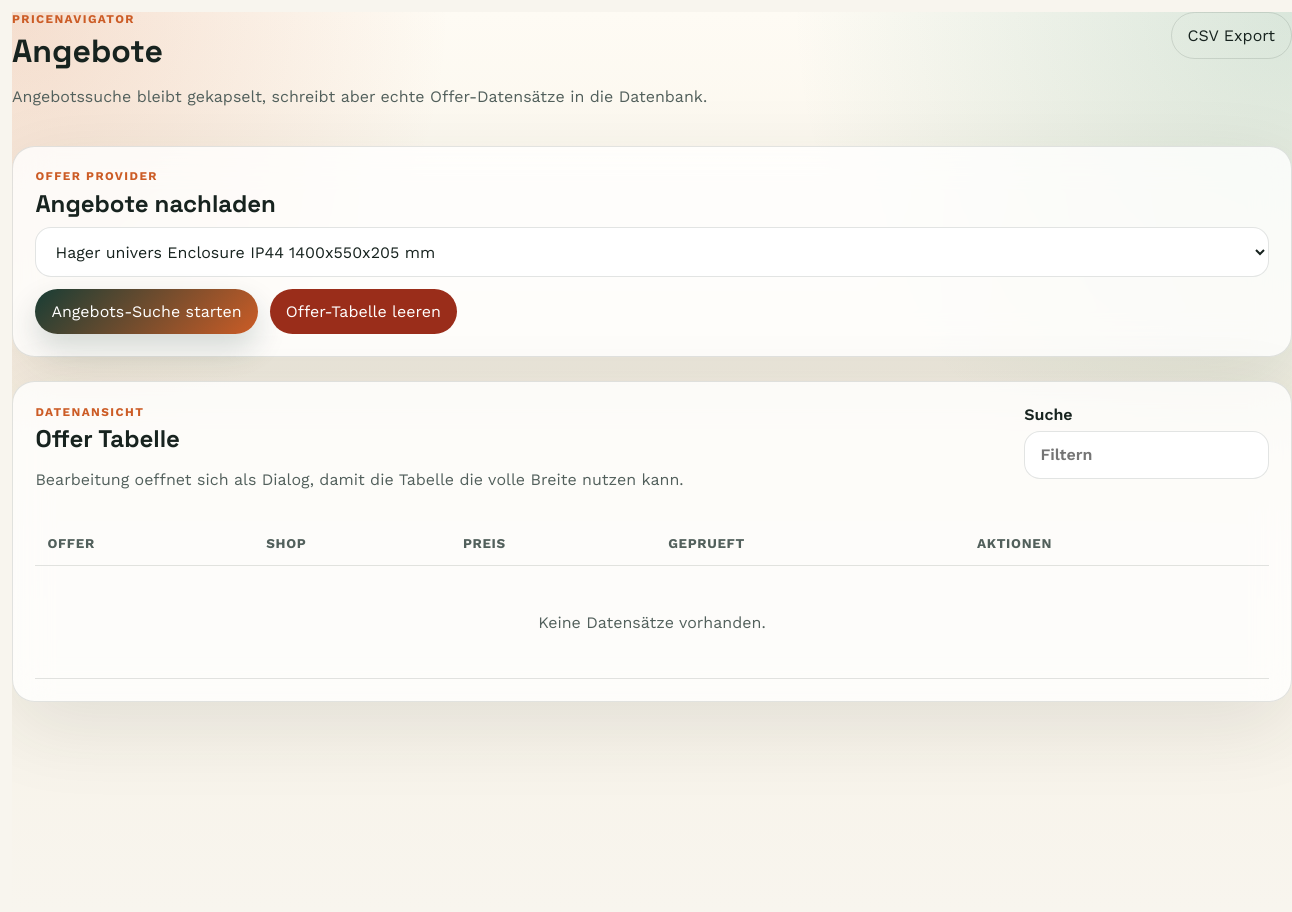
Test: OffersPage › selects the first active product and starts the offer search
The width and height of the screenshot is (1292, 912).
expect the dropdown shows "Hager univers Enclosure IP44 1400x550x205 mm": met, box [35, 227, 1269, 277]
Click the button "Angebots-Suche starten" at [147, 312], box [35, 289, 258, 334]
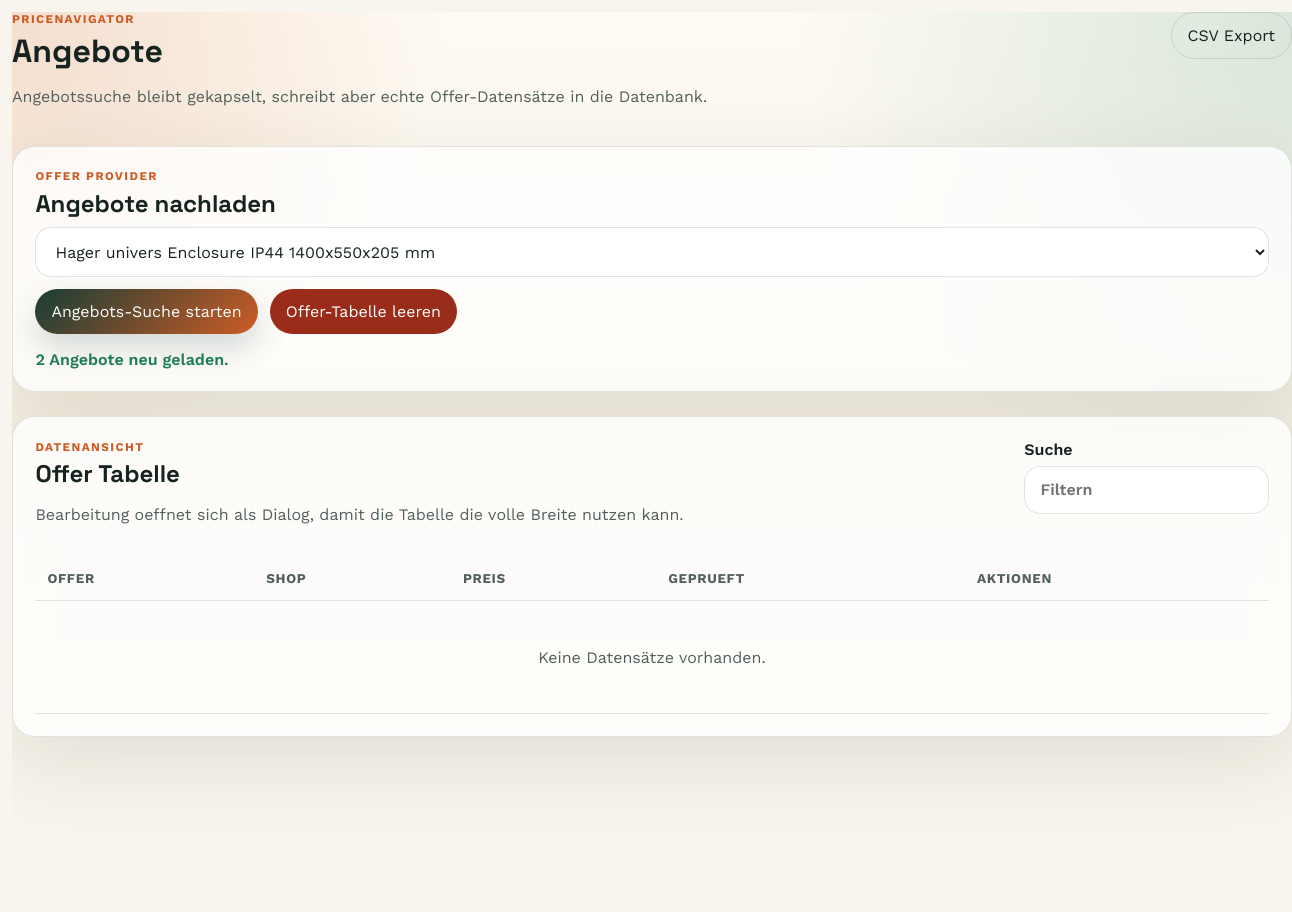
expect the text "2 Angebote neu geladen." is shown: met, box [35, 350, 229, 369]
